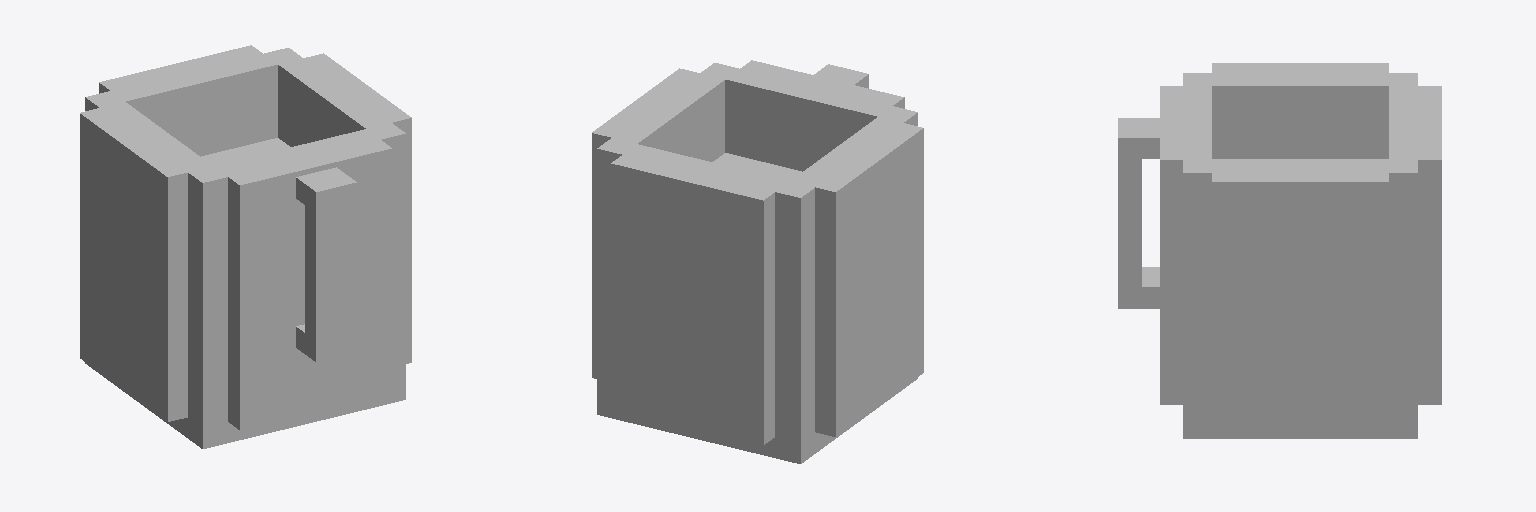
File: mug_08.obj
3 renders of one model, left to right at view 1: azimuth 30°, elevation 25°; view 2: azimuth 150°, elevation 25°; view 3: azimuth 270°, elevation 25°, orthographic.
Parts seen in each view (by area): view 1: cube; view 2: cube; view 3: cube.
Boxes of the visible parts, box(x1,y1,x2,y2) form: cube: box(80, 45, 411, 448); cube: box(592, 60, 923, 463); cube: box(1118, 63, 1441, 438).
Size of the model in its own units: 0.6 by 0.625 by 0.6875.